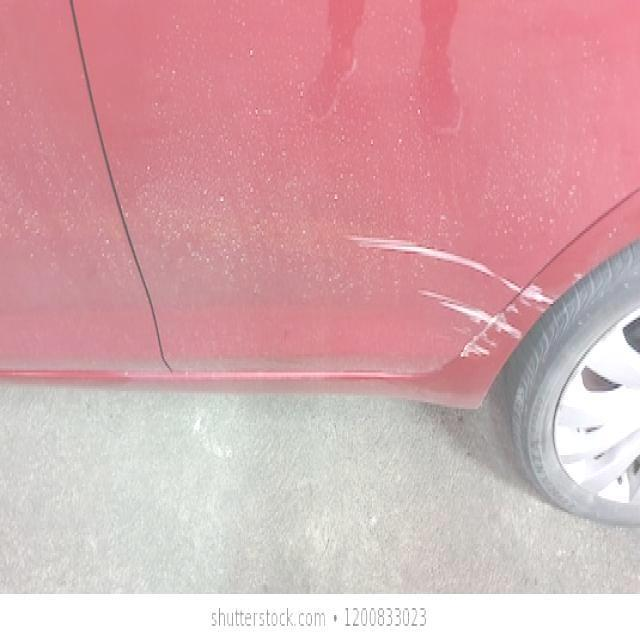minor: (486, 321, 521, 338), (522, 286, 551, 305), (463, 343, 486, 358)
moderate: (345, 234, 526, 294), (422, 291, 496, 326)
